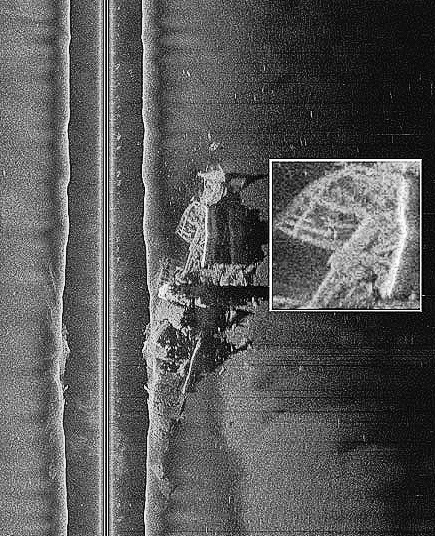ship: (272, 165, 417, 310), (157, 167, 238, 418)
